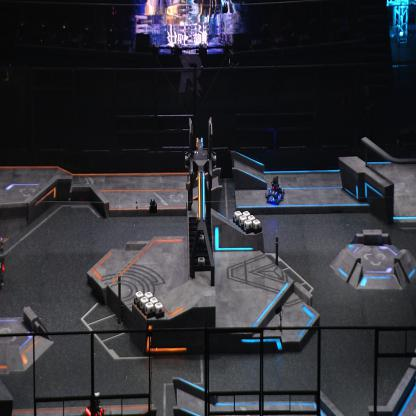car: (265, 176, 285, 205), (83, 390, 105, 416), (0, 234, 6, 286)
